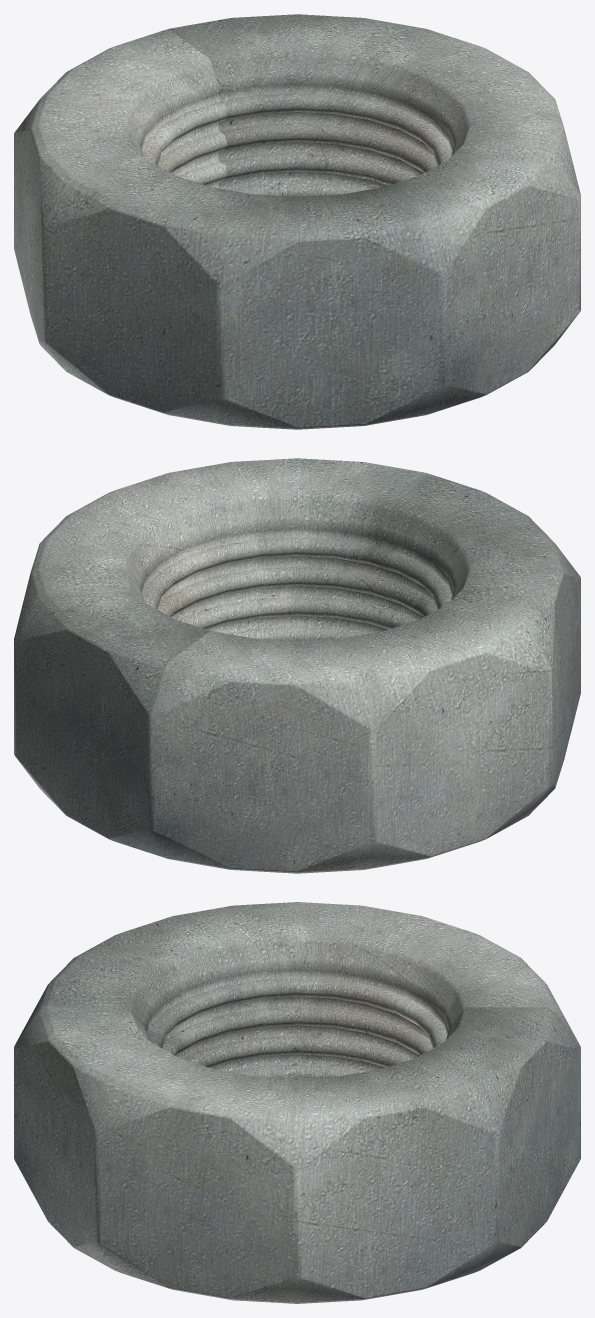
Rendered from nut_LOW.fbx.
3 renders of one model, top to bottom at view 1: azimuth 30°, elevation 25°; view 2: azimuth 150°, elevation 25°; view 3: azimuth 270°, elevation 25°, orthographic. The views are drawn at different scales.
Visible parts, largest first — view 1: Nut; view 2: Nut; view 3: Nut.
Part boxes in pixels (x1=…): Nut: x1=14, y1=14, x2=580, y2=429; Nut: x1=14, y1=458, x2=580, y2=873; Nut: x1=14, y1=902, x2=580, y2=1303.
Size of the model in its own units: 10.5 by 3.9 by 10.5.
1 material, 1 textured.
